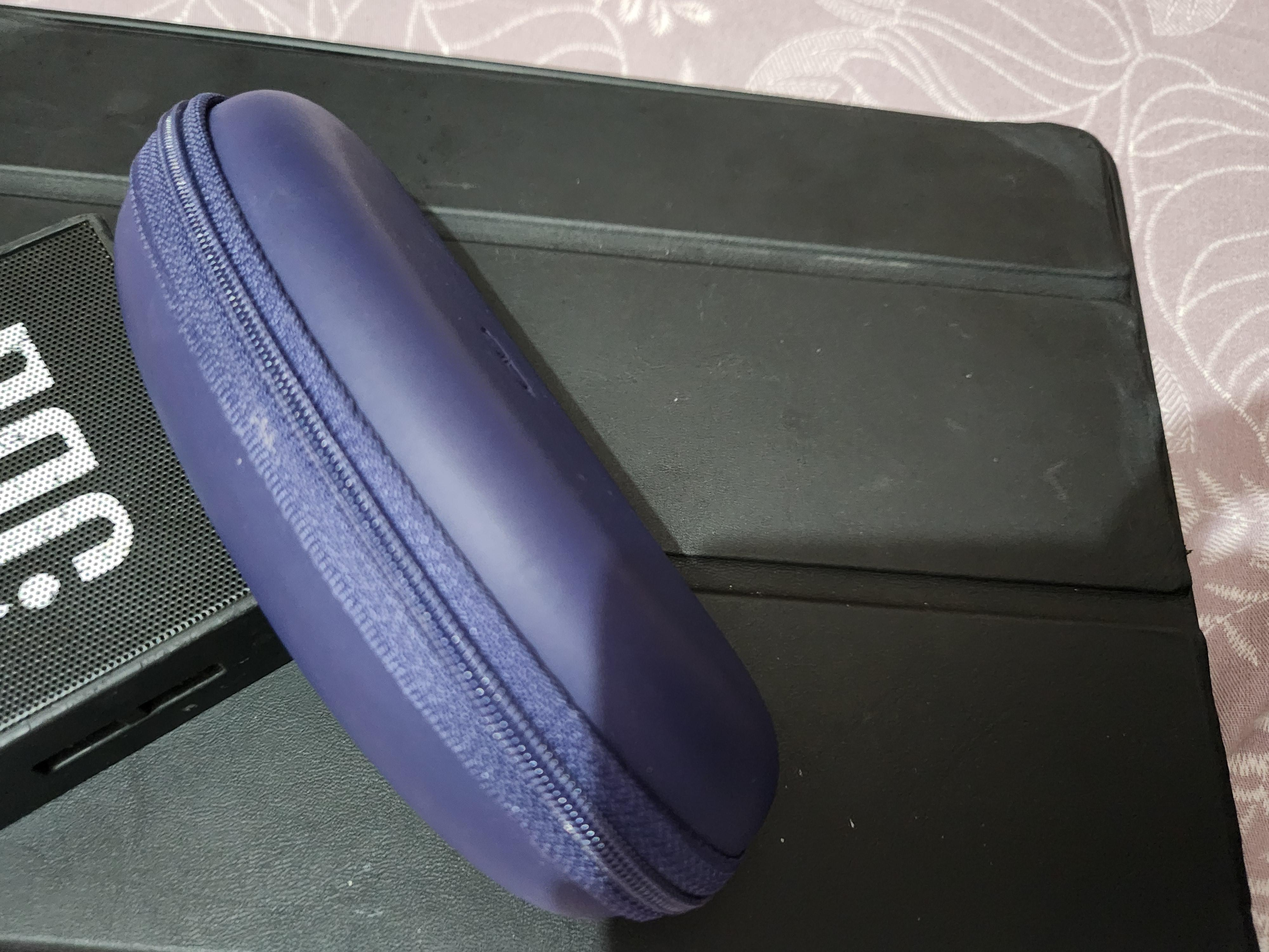case: (36, 82, 1162, 585)
speaker: (178, 0, 997, 202)
